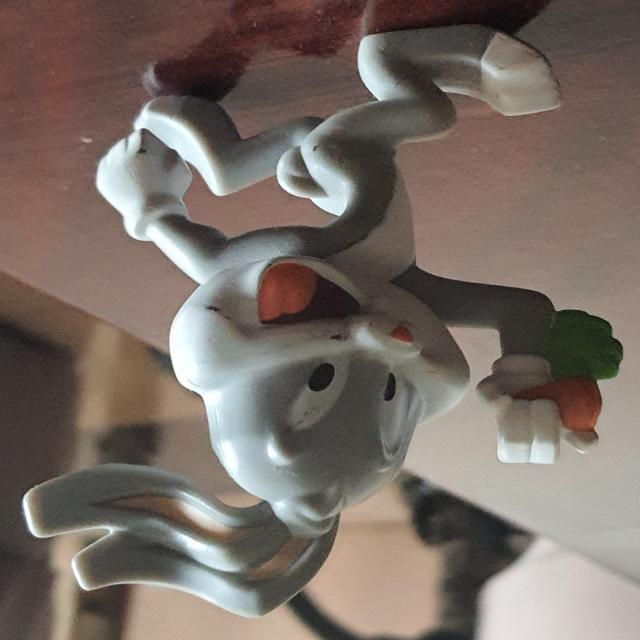Rabbit: (21, 23, 622, 619)
